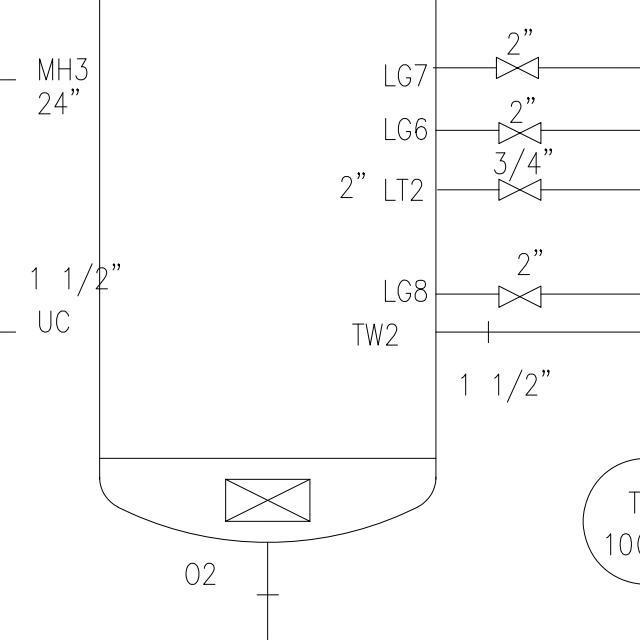GV: (495, 282, 545, 311), (493, 54, 542, 82), (495, 177, 544, 203), (496, 120, 544, 145)
